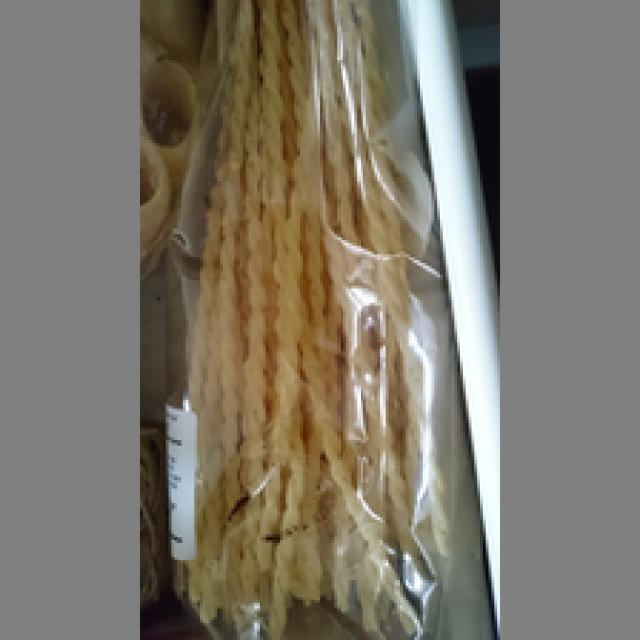groceries: (180, 0, 440, 631)
